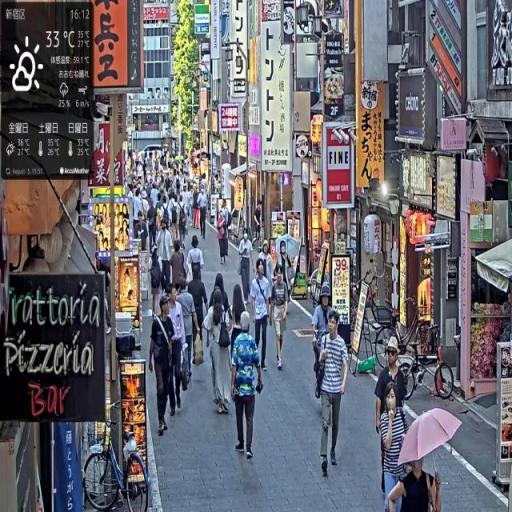person: (315, 310, 351, 474), (232, 313, 265, 464), (150, 292, 176, 438), (379, 390, 409, 510), (204, 293, 233, 416), (387, 452, 442, 512), (312, 290, 337, 407), (174, 280, 199, 386), (187, 259, 210, 365), (252, 260, 273, 375), (269, 264, 290, 373), (158, 215, 175, 305), (238, 231, 254, 305), (216, 204, 231, 268), (187, 236, 206, 283), (198, 184, 209, 240)
